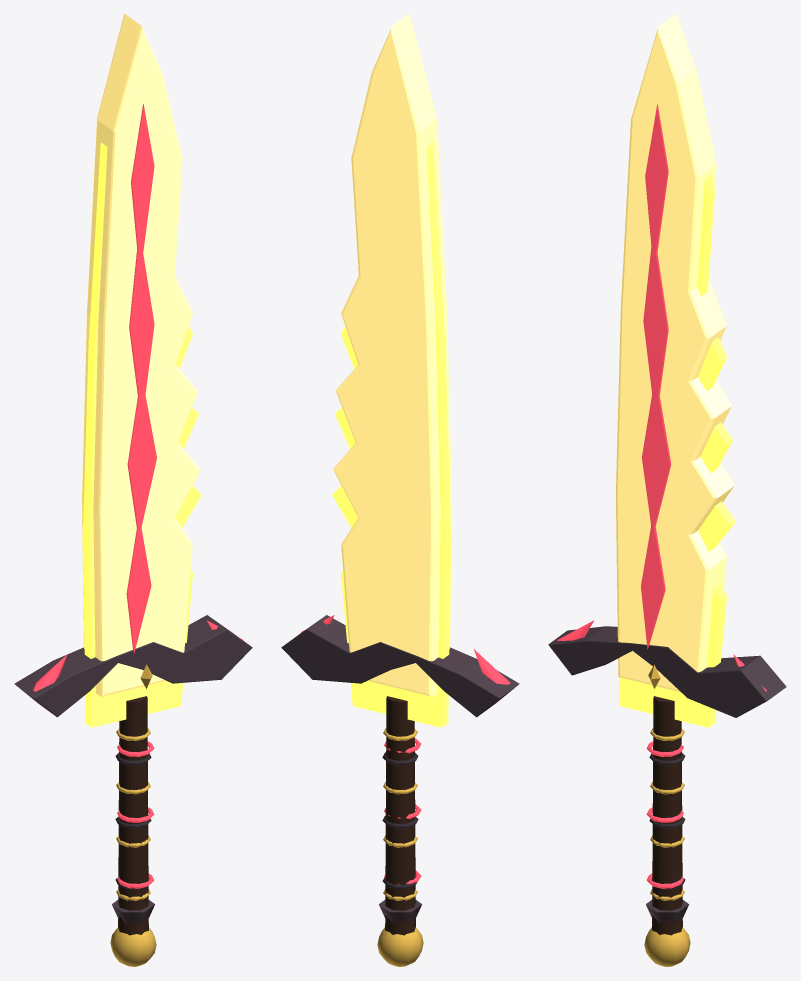
The model's file is greatsword_f7_1acc7ac4.glb.
3 renders of one model, left to right at view 1: azimuth 30°, elevation 25°; view 2: azimuth 150°, elevation 25°; view 3: azimuth 330°, elevation 25°, orthographic.
Parts seen in each view (by area): view 1: m1_ow80_, m3_, m0_gm110_, m4_ow80_, m2_ow80_, m5_ow80_; view 2: m1_ow80_, m0_gm110_, m4_ow80_, m2_ow80_, m5_ow80_, m3_, m6_ow80_; view 3: m1_ow80_, m3_, m4_ow80_, m0_gm110_, m2_ow80_, m5_ow80_.
Part boxes in pixels (x1,y1,x2,y2): m1_ow80_: (82, 14, 200, 696); m3_: (33, 104, 243, 888); m0_gm110_: (82, 142, 201, 727); m4_ow80_: (14, 615, 252, 924); m2_ow80_: (118, 696, 148, 935); m5_ow80_: (110, 664, 156, 966); m1_ow80_: (333, 14, 451, 696); m0_gm110_: (332, 142, 451, 727); m4_ow80_: (281, 615, 519, 924); m2_ow80_: (385, 696, 415, 935); m5_ow80_: (377, 728, 423, 966); m3_: (301, 615, 510, 884); m6_ow80_: (382, 752, 418, 889); m1_ow80_: (616, 14, 734, 692); m3_: (557, 104, 766, 888); m4_ow80_: (548, 626, 786, 924); m0_gm110_: (619, 174, 735, 727); m2_ow80_: (652, 696, 682, 935); m5_ow80_: (644, 664, 690, 966).
Size of the model in its own units: 0.8712 by 3.59 by 0.1899.
